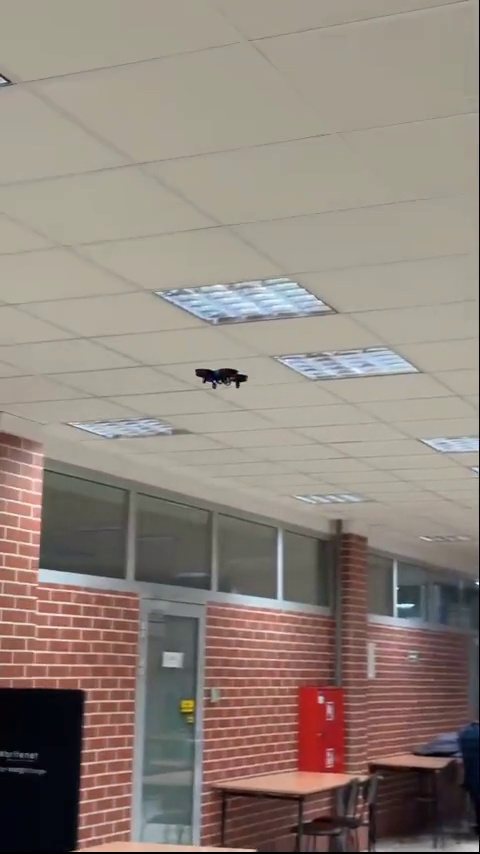drone: (193, 364, 252, 392)
